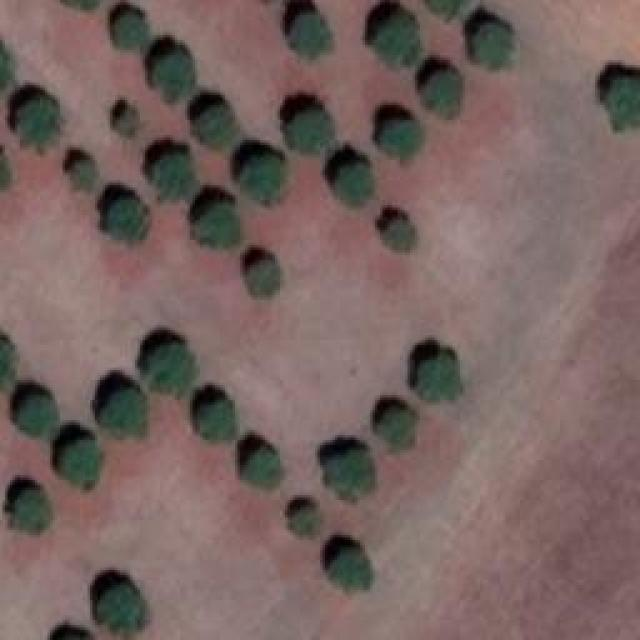Tree: (143, 343, 193, 398), (95, 585, 148, 633), (12, 98, 60, 148), (375, 13, 420, 66), (325, 450, 373, 498), (153, 153, 196, 203), (150, 53, 193, 103), (103, 390, 146, 438), (418, 355, 461, 400), (605, 75, 640, 130), (245, 155, 283, 203), (60, 440, 100, 485), (328, 550, 373, 590), (473, 23, 513, 68), (105, 198, 145, 241), (198, 105, 238, 148), (380, 118, 423, 158), (290, 113, 333, 153), (290, 13, 333, 53), (422, 73, 460, 118), (12, 490, 50, 533), (195, 205, 238, 243), (380, 410, 415, 450), (335, 163, 370, 203), (198, 402, 233, 440), (17, 398, 55, 433), (245, 447, 280, 485), (245, 260, 280, 295), (115, 15, 150, 48), (380, 220, 413, 250), (0, 340, 15, 393), (292, 507, 320, 535), (430, 0, 473, 18), (70, 160, 95, 188), (117, 112, 135, 130)
